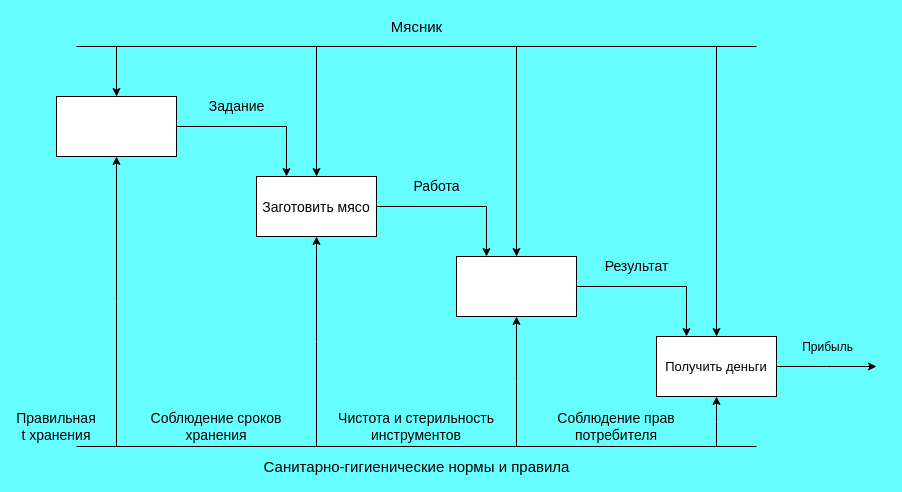
The diagram is 902 pixels wide and 492 high, and some of its shapes have lost their labels. Here are the shapes that lost their labels. From the top down, the centre of each, then its label:
At (x=116, y=126): "Получить мясо".
At (x=516, y=286): "Продать мясо".
